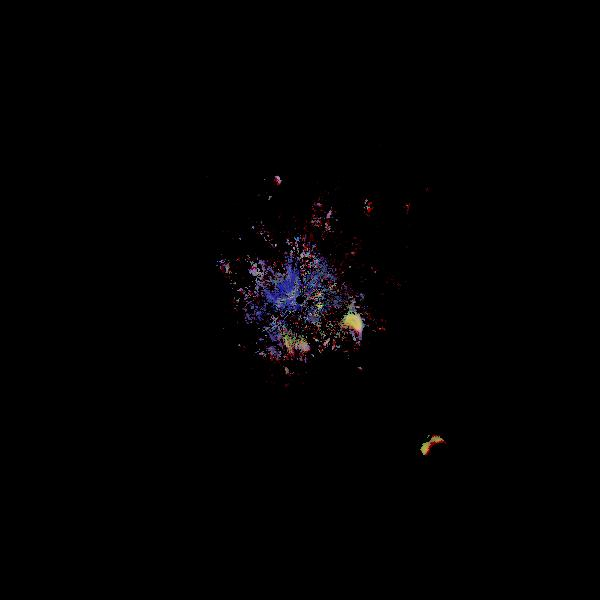roost: (254, 330, 338, 414), (400, 190, 448, 238), (419, 434, 455, 470), (334, 312, 367, 345)
